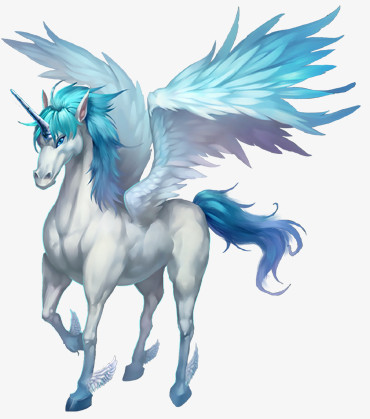background: (4, 3, 367, 416)
